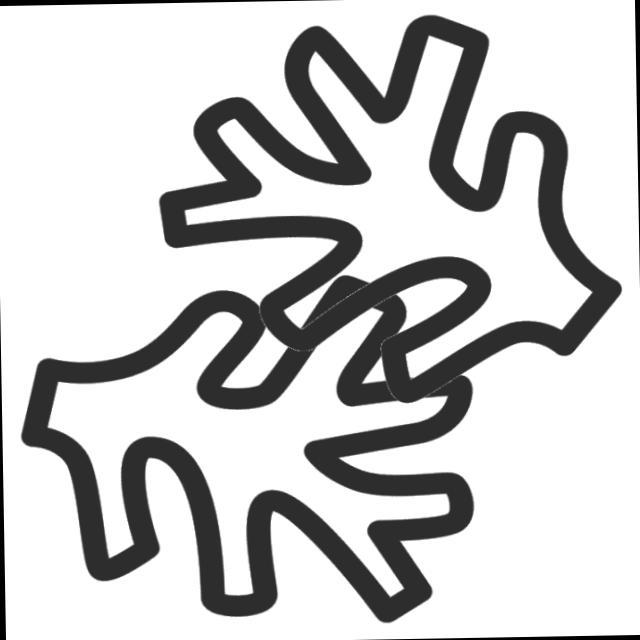coral: (144, 3, 629, 416), (5, 261, 507, 638)
